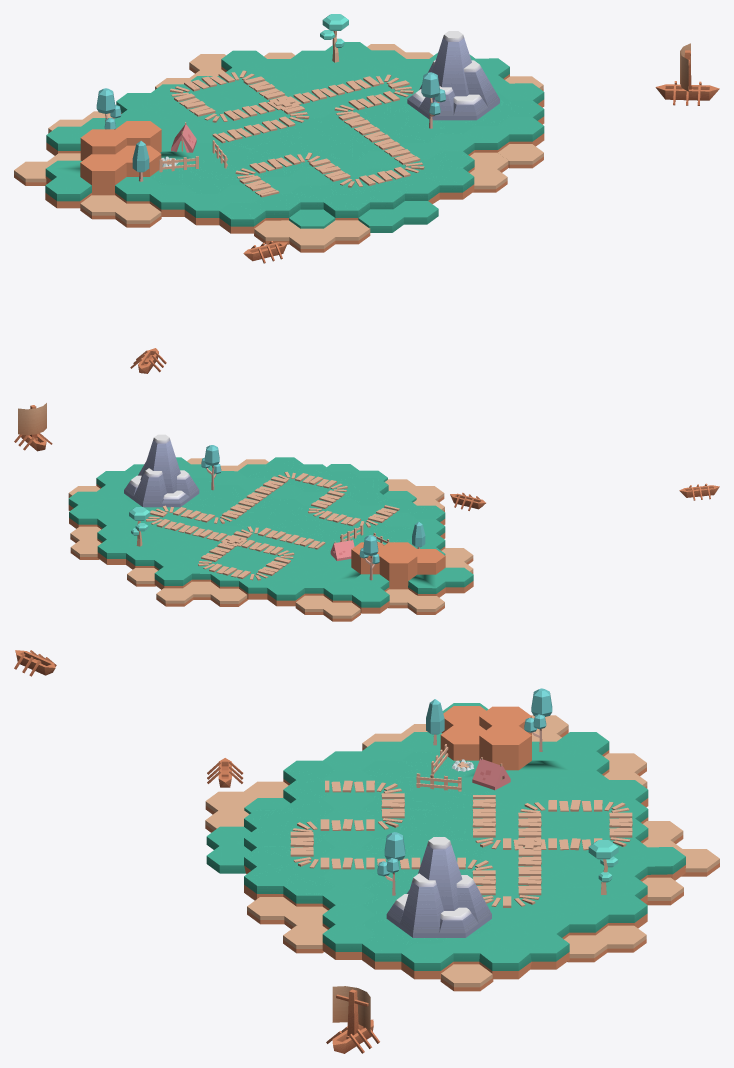
The model's file is map.glb.
3 views of the same model, one above another, from view 1: azimuth 30°, elevation 25°; view 2: azimuth 150°, elevation 25°; view 3: azimuth 270°, elevation 25° (orthographic). The views are drawn at different scales.
Visible parts, largest first — view 1: path_wood.016, stone-mountain, grass.003, dirt.003, unit-ship-large, dirt, sand.001, sand.004, dirt.001, sand.015, sand.003, sand (+9 smaller); view 2: path_wood.016, stone-mountain, dirt, unit-ship-large, dirt.003, sand.005, dirt.001, sand.017, sand.010, sand.008, sand.006, sand.012 (+13 smaller); view 3: path_wood.016, stone-mountain, unit-ship-large, dirt.001, grass.003, dirt.002, sand.014, sand.012, sand.016, sand.015, sand.009, sand.011 (+14 smaller).
Part boxes in pixels (left/top/right/bottom): path_wood.016: left=45, top=42, right=544, bottom=233; stone-mountain: left=407, top=31, right=499, bottom=120; grass.003: left=358, top=201, right=438, bottom=232; dirt.003: left=80, top=154, right=126, bottom=195; unit-ship-large: left=655, top=43, right=719, bottom=105; dirt: left=80, top=129, right=126, bottom=160; sand.001: left=289, top=228, right=335, bottom=252; sand.004: left=115, top=203, right=161, bottom=227; dirt.001: left=115, top=121, right=161, bottom=152; sand.015: left=498, top=144, right=543, bottom=168; sand.003: left=80, top=195, right=126, bottom=219; sand: left=324, top=220, right=370, bottom=244; path_wood.016: left=68, top=457, right=473, bottom=613; stone-mountain: left=124, top=434, right=199, bottom=507; dirt: left=379, top=549, right=417, bottom=589; unit-ship-large: left=14, top=403, right=52, bottom=451; dirt.003: left=412, top=549, right=445, bottom=574; sand.005: left=323, top=602, right=360, bottom=621; dirt.001: left=351, top=542, right=388, bottom=574; sand.017: left=407, top=595, right=444, bottom=614; sand.010: left=156, top=587, right=193, bottom=606; sand.008: left=210, top=588, right=248, bottom=606; sand.006: left=295, top=595, right=332, bottom=614; sand.012: left=70, top=540, right=101, bottom=559; path_wood.016: left=244, top=703, right=685, bottom=979; stone-mountain: left=386, top=837, right=491, bottom=937; unit-ship-large: left=326, top=986, right=379, bottom=1053; dirt.001: left=479, top=726, right=531, bottom=770; grass.003: left=206, top=826, right=251, bottom=873; dirt.002: left=440, top=725, right=485, bottom=760; sand.014: left=440, top=964, right=493, bottom=991; sand.012: left=595, top=925, right=646, bottom=952; sand.016: left=247, top=897, right=298, bottom=924; sand.015: left=283, top=925, right=327, bottom=953; sand.009: left=564, top=935, right=607, bottom=962; sand.011: left=642, top=877, right=683, bottom=905.
Size of the model in its own units: 20.66 by 2.36 by 15.5.
209 materials, 136 textured.
